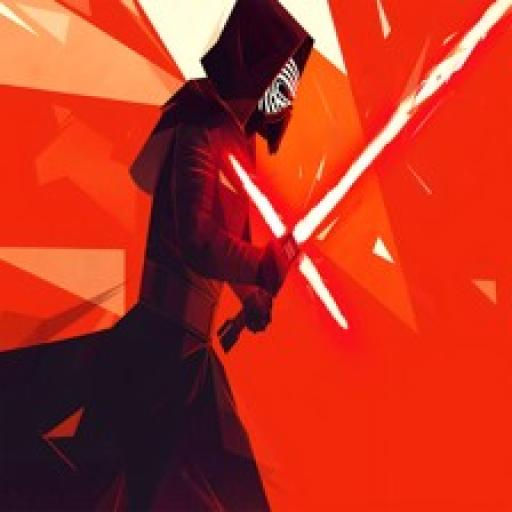human: (0, 11, 306, 511)
sith saber: (212, 0, 509, 358)
